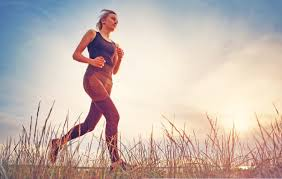Person: (46, 7, 131, 171)
